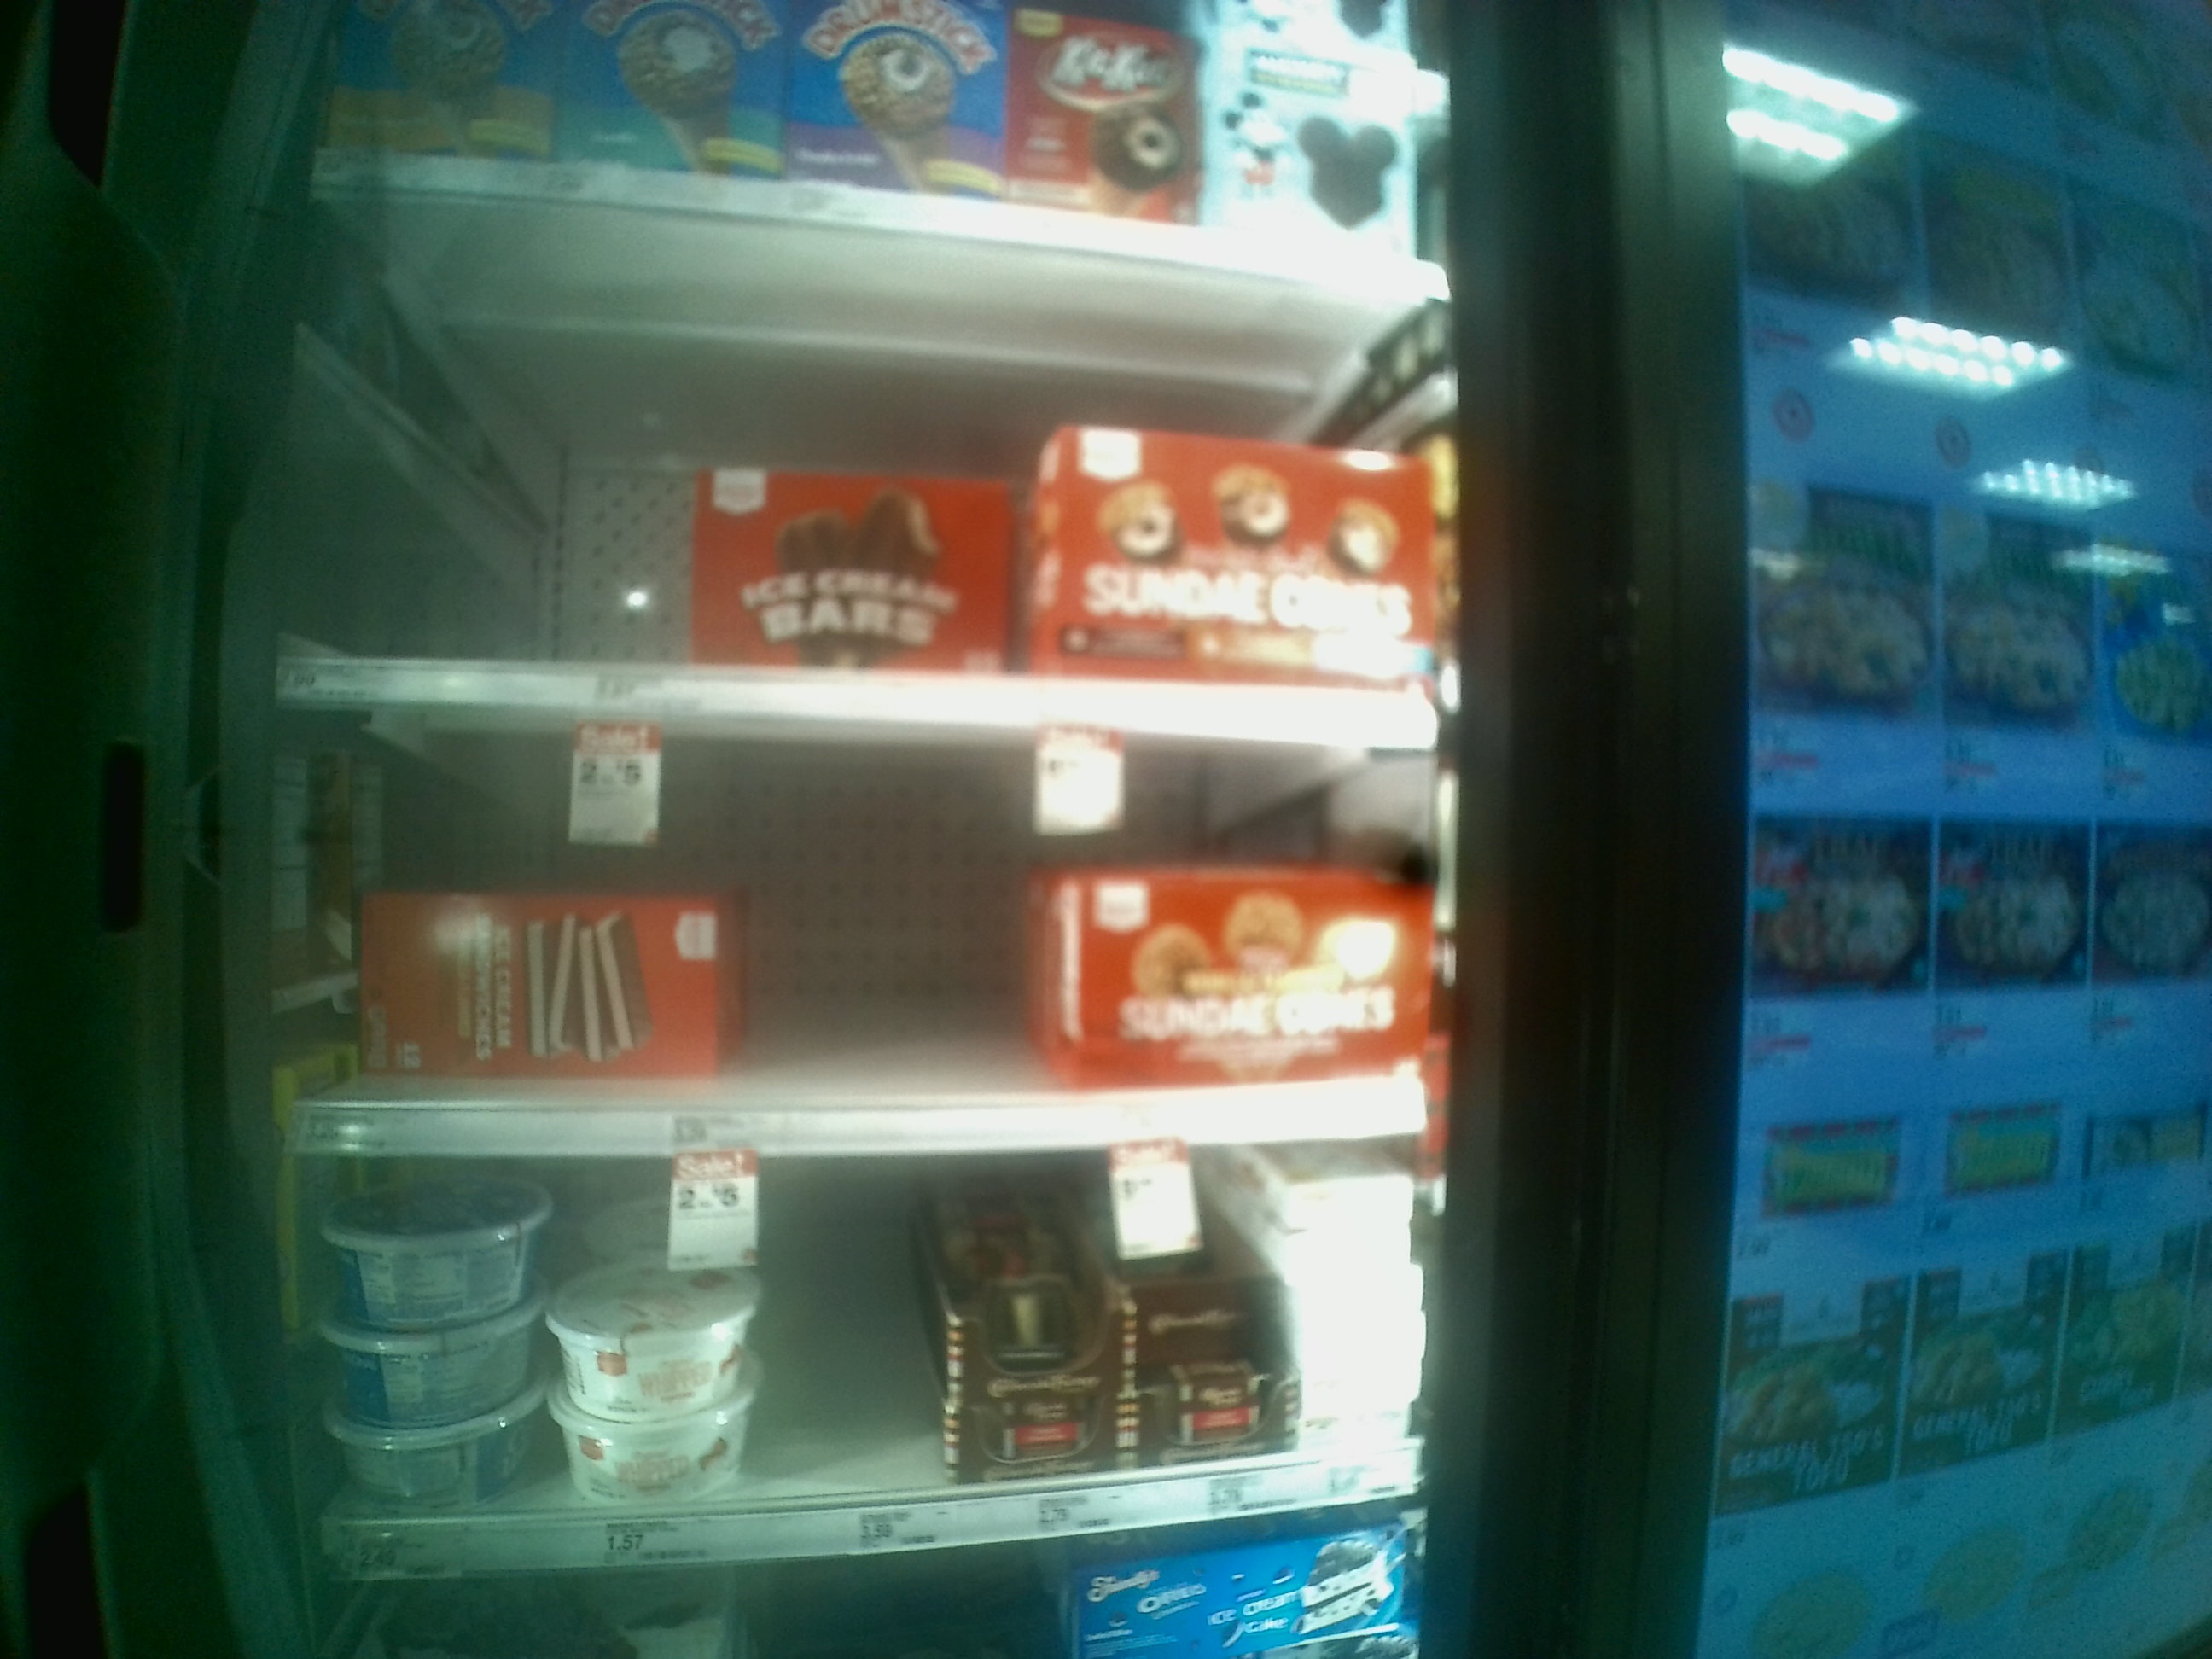shelf: (270, 190, 1425, 744), (256, 711, 1451, 1154), (263, 1155, 1465, 1575)
